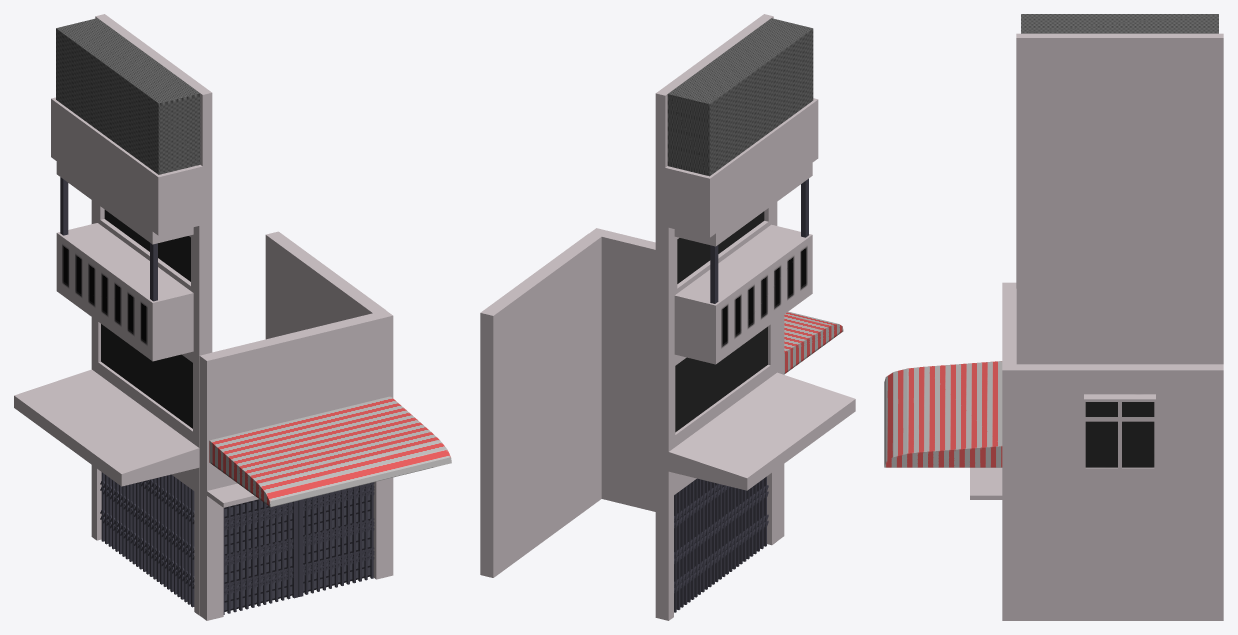
Rendered from Building01F.fbx.
3 views of the same model, side by side, from view 1: azimuth 30°, elevation 25°; view 2: azimuth 150°, elevation 25°; view 3: azimuth 270°, elevation 25° (orthographic). The views are drawn at different scales.
Visible parts, largest first — view 1: BuildSec01, BuildTop02, BuildFront01, BuildTop01, BuildSec02, BuildFront02, BuildSec03; view 2: BuildTop02, BuildSec02, BuildTop01, BuildSec03, BuildWall01, BuildFront02, BuildSec01, BuildFront01; view 3: BuildTop02, BuildSec03, BuildWall01, BuildTop01, BuildSec02, BuildSec01, BuildFront01.
Part boxes in pixels (left/top/right/bottom): BuildSec01: left=199, top=310, right=451, bottom=507; BuildTop02: left=51, top=14, right=212, bottom=235; BuildFront01: left=199, top=477, right=393, bottom=620; BuildTop01: left=56, top=161, right=212, bottom=361; BuildSec02: left=14, top=317, right=199, bottom=486; BuildFront02: left=91, top=465, right=199, bottom=615; BuildSec03: left=265, top=231, right=385, bottom=339; BuildTop02: left=655, top=14, right=818, bottom=237; BuildSec02: left=655, top=320, right=855, bottom=490; BuildTop01: left=655, top=163, right=812, bottom=364; BuildSec03: left=480, top=233, right=601, bottom=446; BuildWall01: left=480, top=368, right=601, bottom=577; BuildFront02: left=655, top=469, right=777, bottom=620; BuildSec01: left=589, top=228, right=843, bottom=380; BuildFront01: left=601, top=368, right=784, bottom=540; BuildTop02: left=1016, top=14, right=1223, bottom=163; BuildSec03: left=1016, top=364, right=1223, bottom=495; BuildWall01: left=1016, top=495, right=1223, bottom=620; BuildTop01: left=1016, top=163, right=1223, bottom=288; BuildSec02: left=1016, top=288, right=1223, bottom=364; BuildSec01: left=884, top=282, right=1016, bottom=495; BuildFront01: left=970, top=467, right=1016, bottom=620.
Size of the model in its own units: 444 by 800 by 491.
